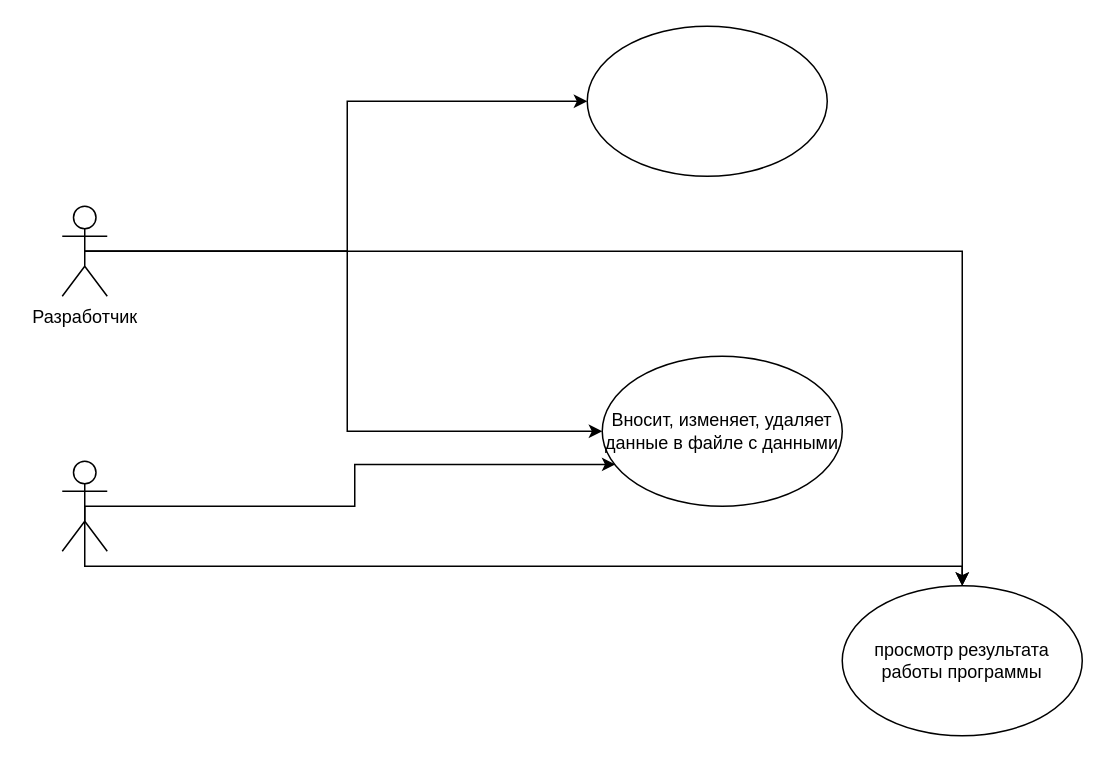
The diagram is 1109 pixels wide and 762 high, and some of its shapes have lost their labels. The shapes that lost their labels are listed below. From the top down, each one's centre as x and y in pixels, then its label:
At point (706, 100): "Изменяет, добавляет функионал программы".
At point (84, 505): "Пользователь".
